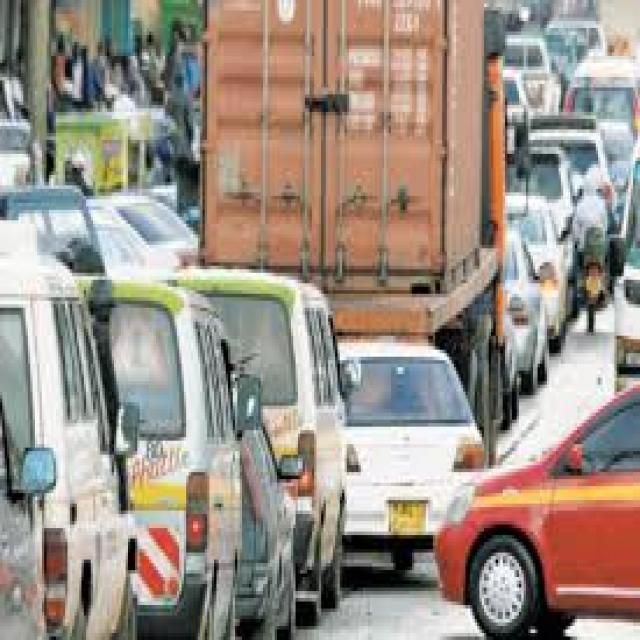matatu: (114, 274, 250, 637), (7, 283, 112, 640), (298, 265, 348, 624)
